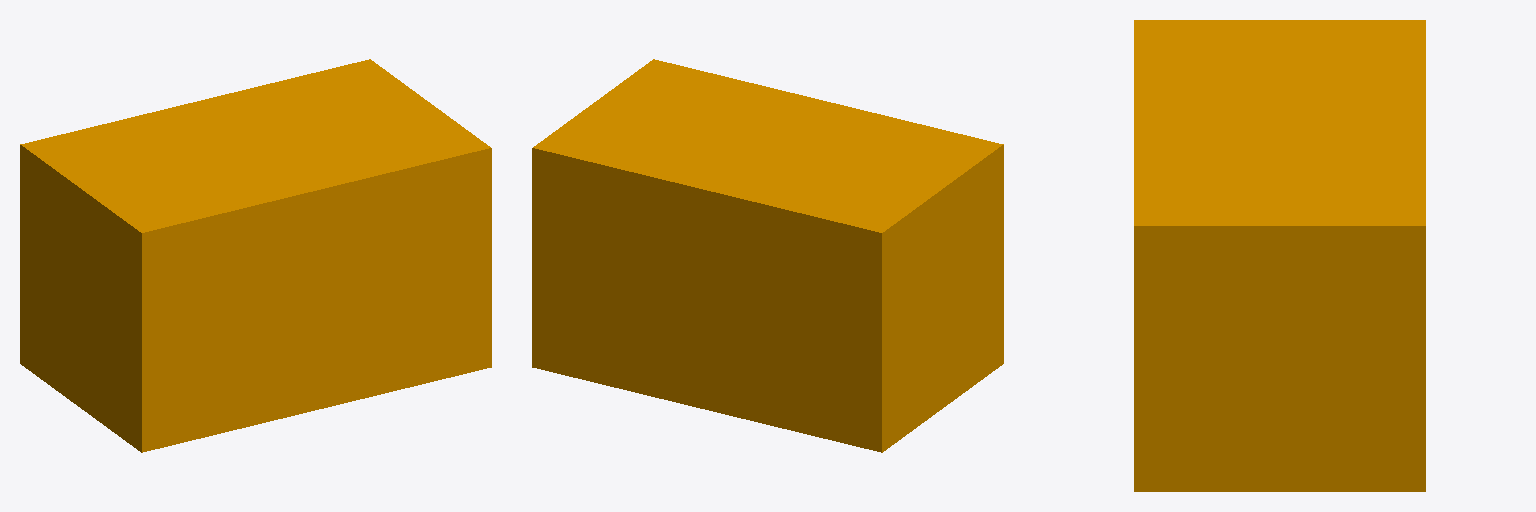
The robot description file, URDF, robot "object":
<?xml version="0.0"?>
	<robot name="object">
		<link name="object">
			<visual>
				<origin xyz="0 0 0"/>
				<geometry>
					<box size="0.5 0.3 0.3"/>
				</geometry>
			</visual>
			<inertial>
				<mass value="4.500"/>
			</inertial>
			<collision>
				<origin xyz="0 0 0"/>
				<geometry>
					<box size="0.5 0.3 0.3"/>
				</geometry>
			</collision>
		</link>

	</robot>

--- Render facts (derived) ---
The picture shows the robot from 3 angles, left to right: view 1: azimuth 30°, elevation 25°; view 2: azimuth 150°, elevation 25°; view 3: azimuth 270°, elevation 25°; orthographic projection.
Model object with 1 links and 0 joints (none), rooted at object, posed all joints at 0.
Visible links, largest first — view 1: object; view 2: object; view 3: object.
Boxes of the visible links, box(x1,y1,x2,y2) form: object: box(20, 59, 491, 452); object: box(532, 59, 1003, 452); object: box(1134, 20, 1425, 491).
Size in the robot's own frame: 0.5 by 0.3 by 0.3 metres.
Geometry: primitives only (box / cylinder / sphere), no mesh files.